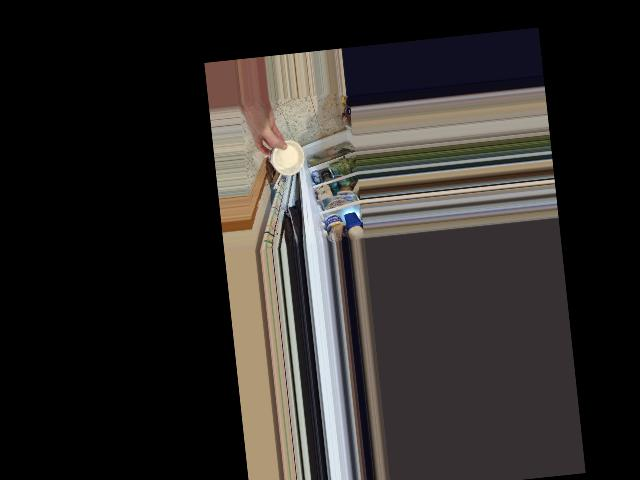cotage: (264, 136, 303, 177)
